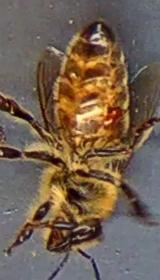varroa_mite: (98, 96, 125, 136)
